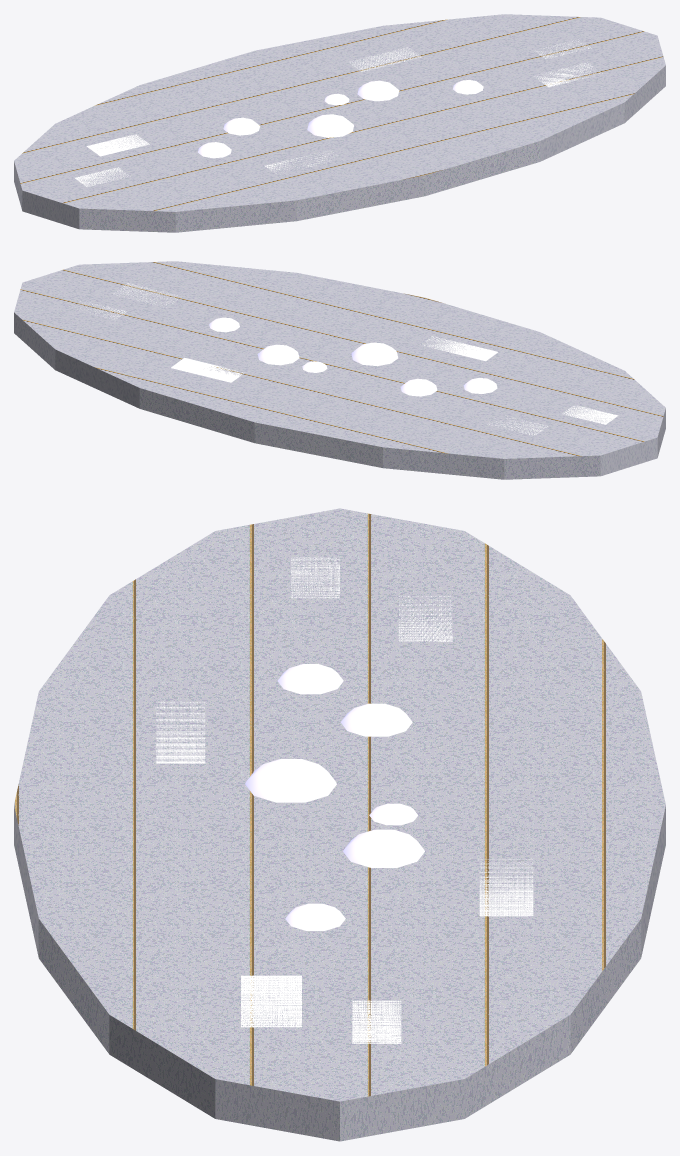
Rendered from charco_tinta.glb.
3 views of the same model, one above another, from view 1: azimuth 30°, elevation 25°; view 2: azimuth 150°, elevation 25°; view 3: azimuth 270°, elevation 25° (orthographic). The views are drawn at different scales.
Parts seen in each view (by area): view 1: Charco_Borde_Base, Charco_Burbuja_1, Charco_Hielo_0, Charco_Burbuja_2, Charco_Hielo_3, Charco_Hielo_1, Charco_Burbuja_0, Charco_Hielo_4, Charco_Burbuja_5, Charco_Burbuja_3; view 2: Charco_Borde_Base, Charco_Burbuja_1, Charco_Hielo_3, Charco_Hielo_2, Charco_Burbuja_2, Charco_Hielo_4, Charco_Burbuja_0, Charco_Burbuja_5, Charco_Burbuja_3, Charco_Hielo_1; view 3: Charco_Borde_Base, Charco_Hielo_1, Charco_Burbuja_1, Charco_Burbuja_2, Charco_Hielo_3, Charco_Hielo_5, Charco_Hielo_2, Charco_Burbuja_0, Charco_Burbuja_5, Charco_Hielo_4, Charco_Hielo_0, Charco_Burbuja_3.
Boxes of the visible parts, x1=… form: Charco_Borde_Base: x1=14, y1=14, x2=665, y2=232; Charco_Burbuja_1: x1=307, y1=114, x2=353, y2=137; Charco_Hielo_0: x1=86, y1=134, x2=149, y2=156; Charco_Burbuja_2: x1=357, y1=80, x2=399, y2=101; Charco_Hielo_3: x1=350, y1=47, x2=421, y2=71; Charco_Hielo_1: x1=534, y1=62, x2=602, y2=87; Charco_Burbuja_0: x1=223, y1=117, x2=259, y2=135; Charco_Hielo_4: x1=75, y1=167, x2=130, y2=186; Charco_Burbuja_5: x1=198, y1=142, x2=231, y2=158; Charco_Burbuja_3: x1=452, y1=80, x2=483, y2=94; Charco_Borde_Base: x1=14, y1=261, x2=665, y2=479; Charco_Burbuja_1: x1=351, y1=342, x2=398, y2=366; Charco_Hielo_3: x1=171, y1=357, x2=243, y2=382; Charco_Hielo_2: x1=422, y1=336, x2=497, y2=361; Charco_Burbuja_2: x1=257, y1=344, x2=299, y2=365; Charco_Hielo_4: x1=562, y1=405, x2=618, y2=424; Charco_Burbuja_0: x1=400, y1=378, x2=437, y2=396; Charco_Burbuja_5: x1=463, y1=378, x2=497, y2=393; Charco_Burbuja_3: x1=209, y1=317, x2=239, y2=332; Charco_Hielo_1: x1=113, y1=283, x2=181, y2=307; Charco_Borde_Base: x1=14, y1=508, x2=665, y2=1141; Charco_Hielo_1: x1=241, y1=975, x2=301, y2=1027; Charco_Burbuja_1: x1=245, y1=759, x2=336, y2=802; Charco_Burbuja_2: x1=343, y1=829, x2=424, y2=867; Charco_Hielo_3: x1=479, y1=859, x2=533, y2=916; Charco_Hielo_5: x1=352, y1=1000, x2=401, y2=1043; Charco_Hielo_2: x1=156, y1=701, x2=205, y2=763; Charco_Burbuja_0: x1=340, y1=703, x2=412, y2=736; Charco_Burbuja_5: x1=277, y1=664, x2=343, y2=694; Charco_Hielo_4: x1=291, y1=557, x2=339, y2=598; Charco_Hielo_0: x1=398, y1=595, x2=452, y2=641; Charco_Burbuja_3: x1=285, y1=903, x2=345, y2=930.
Bounding box in the file's own units: 5.73 × 0.27 × 2.66.
Materials: 5 (1 with a texture image).
